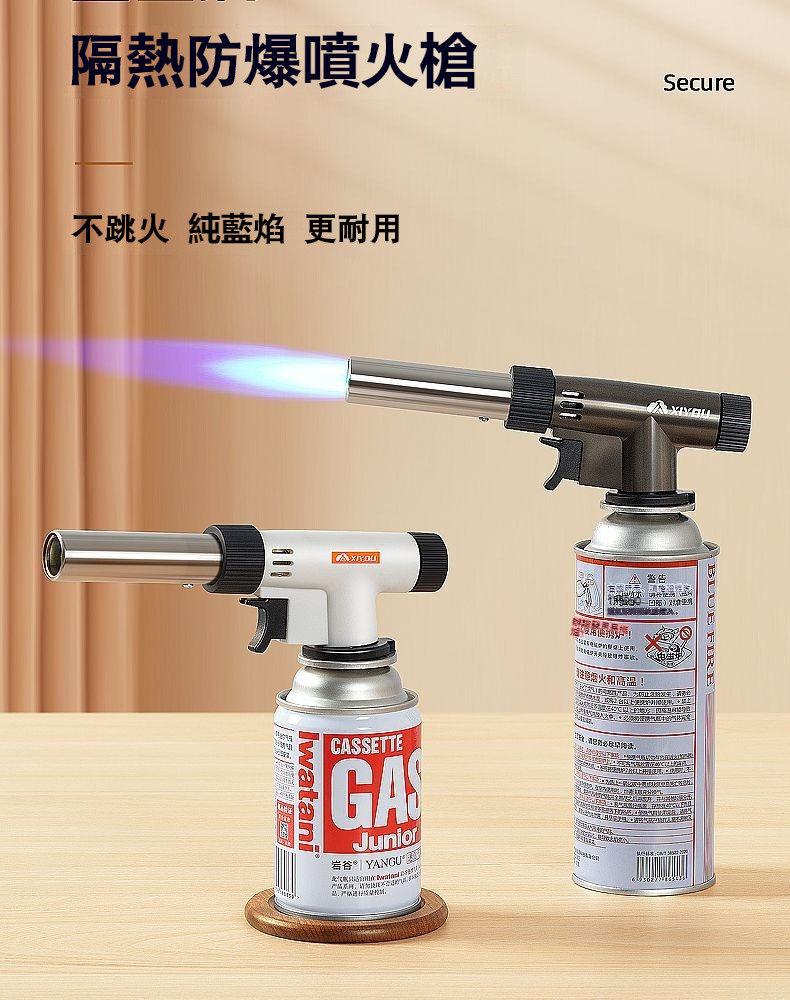gastorch: (345, 350, 750, 902), (40, 522, 450, 938)
